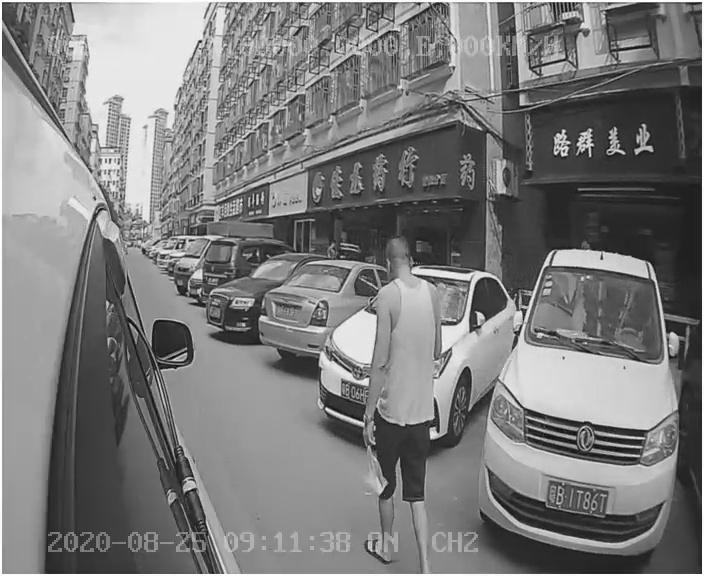person: (339, 237, 450, 528)
